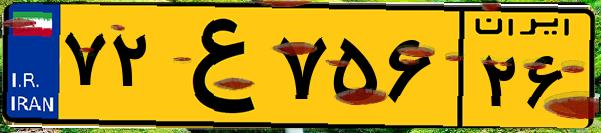2: (475, 38, 525, 113), (110, 28, 158, 98)
5: (330, 28, 385, 110)
6: (385, 28, 445, 110), (525, 38, 570, 115)
7: (270, 28, 330, 110), (57, 26, 110, 100)
ع: (158, 12, 270, 120)
